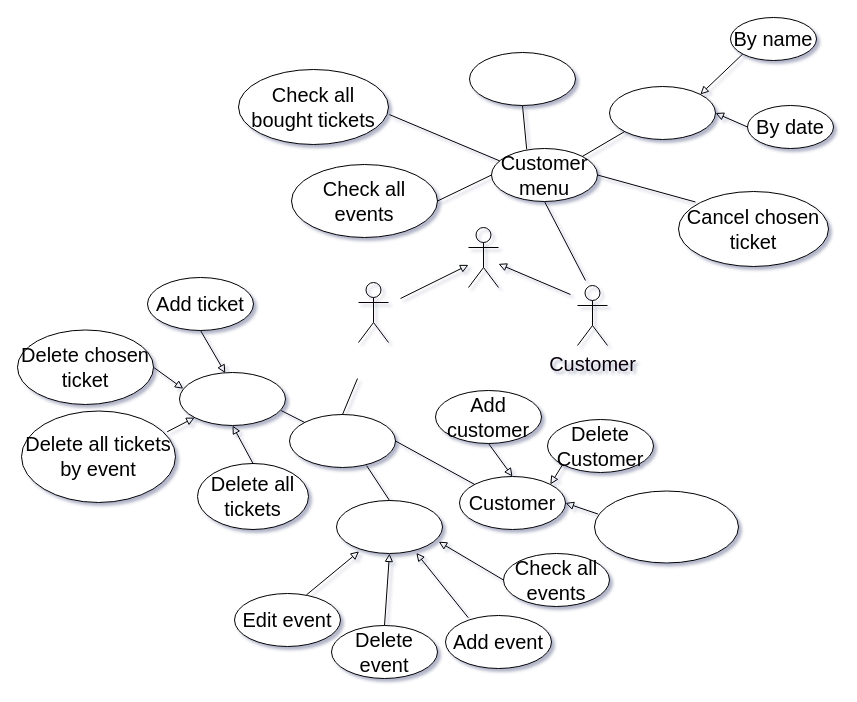
This 857x702 diagram has some shape labels left out. Each missing label, with the centre of its shape:
Admin: the point at 373,312
Admin menu: the point at 342,441
Buy ticket: the point at 522,79
Edit customer data: the point at 666,526
Events: the point at 389,527
Find event: the point at 662,113
Ticket: the point at 232,399
User: the point at 483,257
